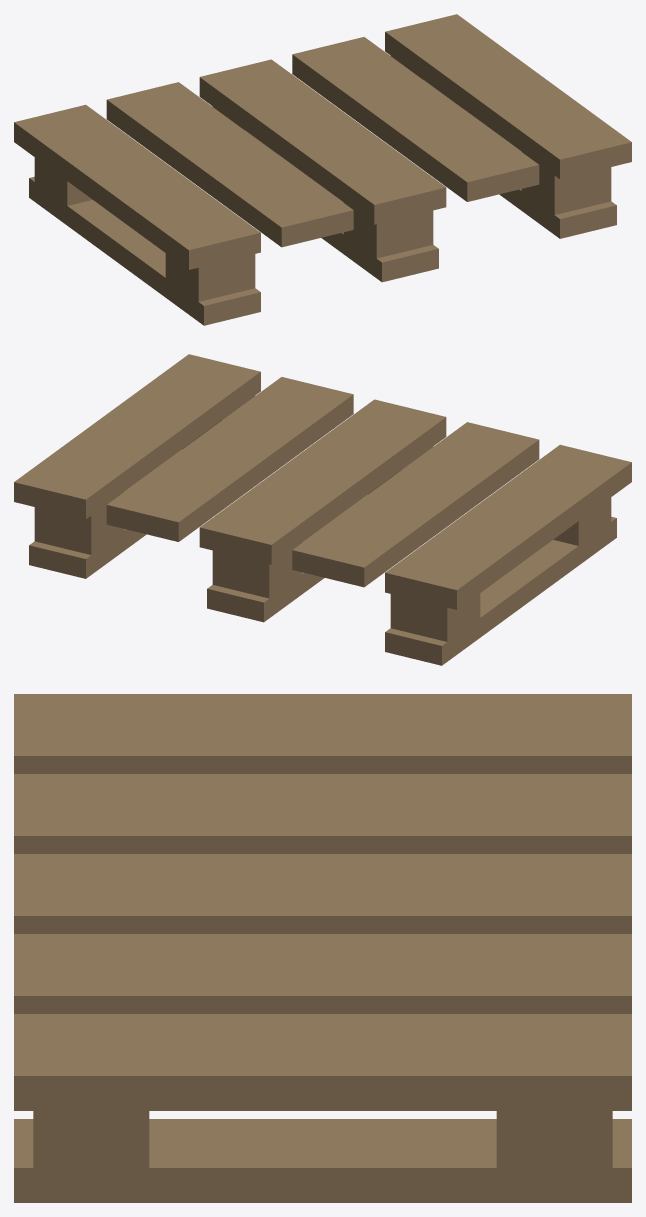
Rendered from yard_pallet.glb.
3 views of the same model, one above another, from view 1: azimuth 30°, elevation 25°; view 2: azimuth 150°, elevation 25°; view 3: azimuth 270°, elevation 25° (orthographic). The views are drawn at different scales.
Visible parts, largest first — view 1: yard_pallet; view 2: yard_pallet; view 3: yard_pallet.
Boxes of the visible parts, <box> form: yard_pallet: <box>14,14,631,325</box>; yard_pallet: <box>14,354,631,665</box>; yard_pallet: <box>14,694,631,1202</box>.
Size of the model in its own units: 1.17 by 0.2 by 0.8.
